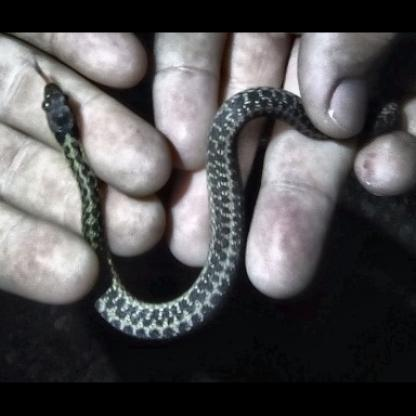Snake: (26, 65, 346, 340), (33, 76, 117, 246)
